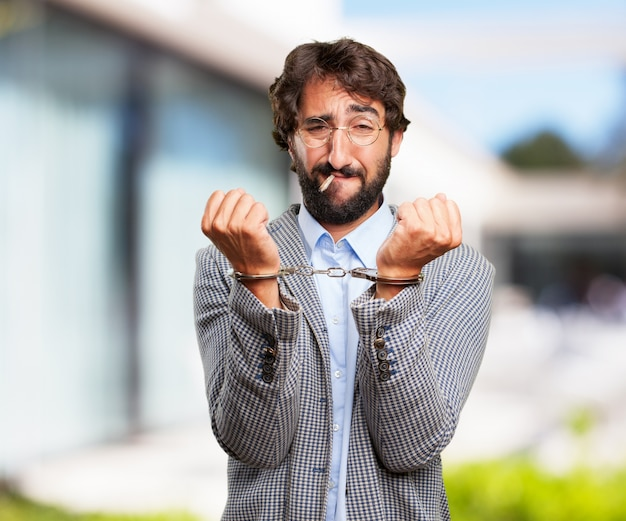cigarette: (316, 173, 336, 195)
